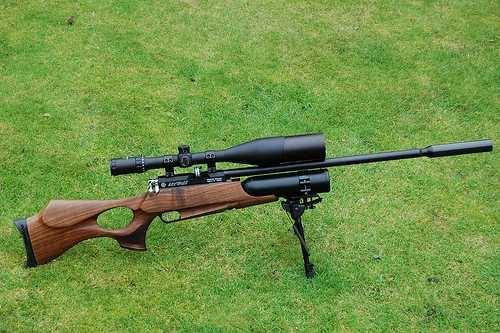heavyweapon: (0, 131, 500, 245)
